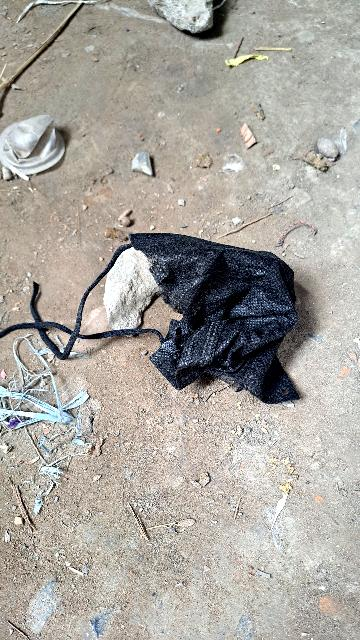mask: (119, 236, 309, 407)
